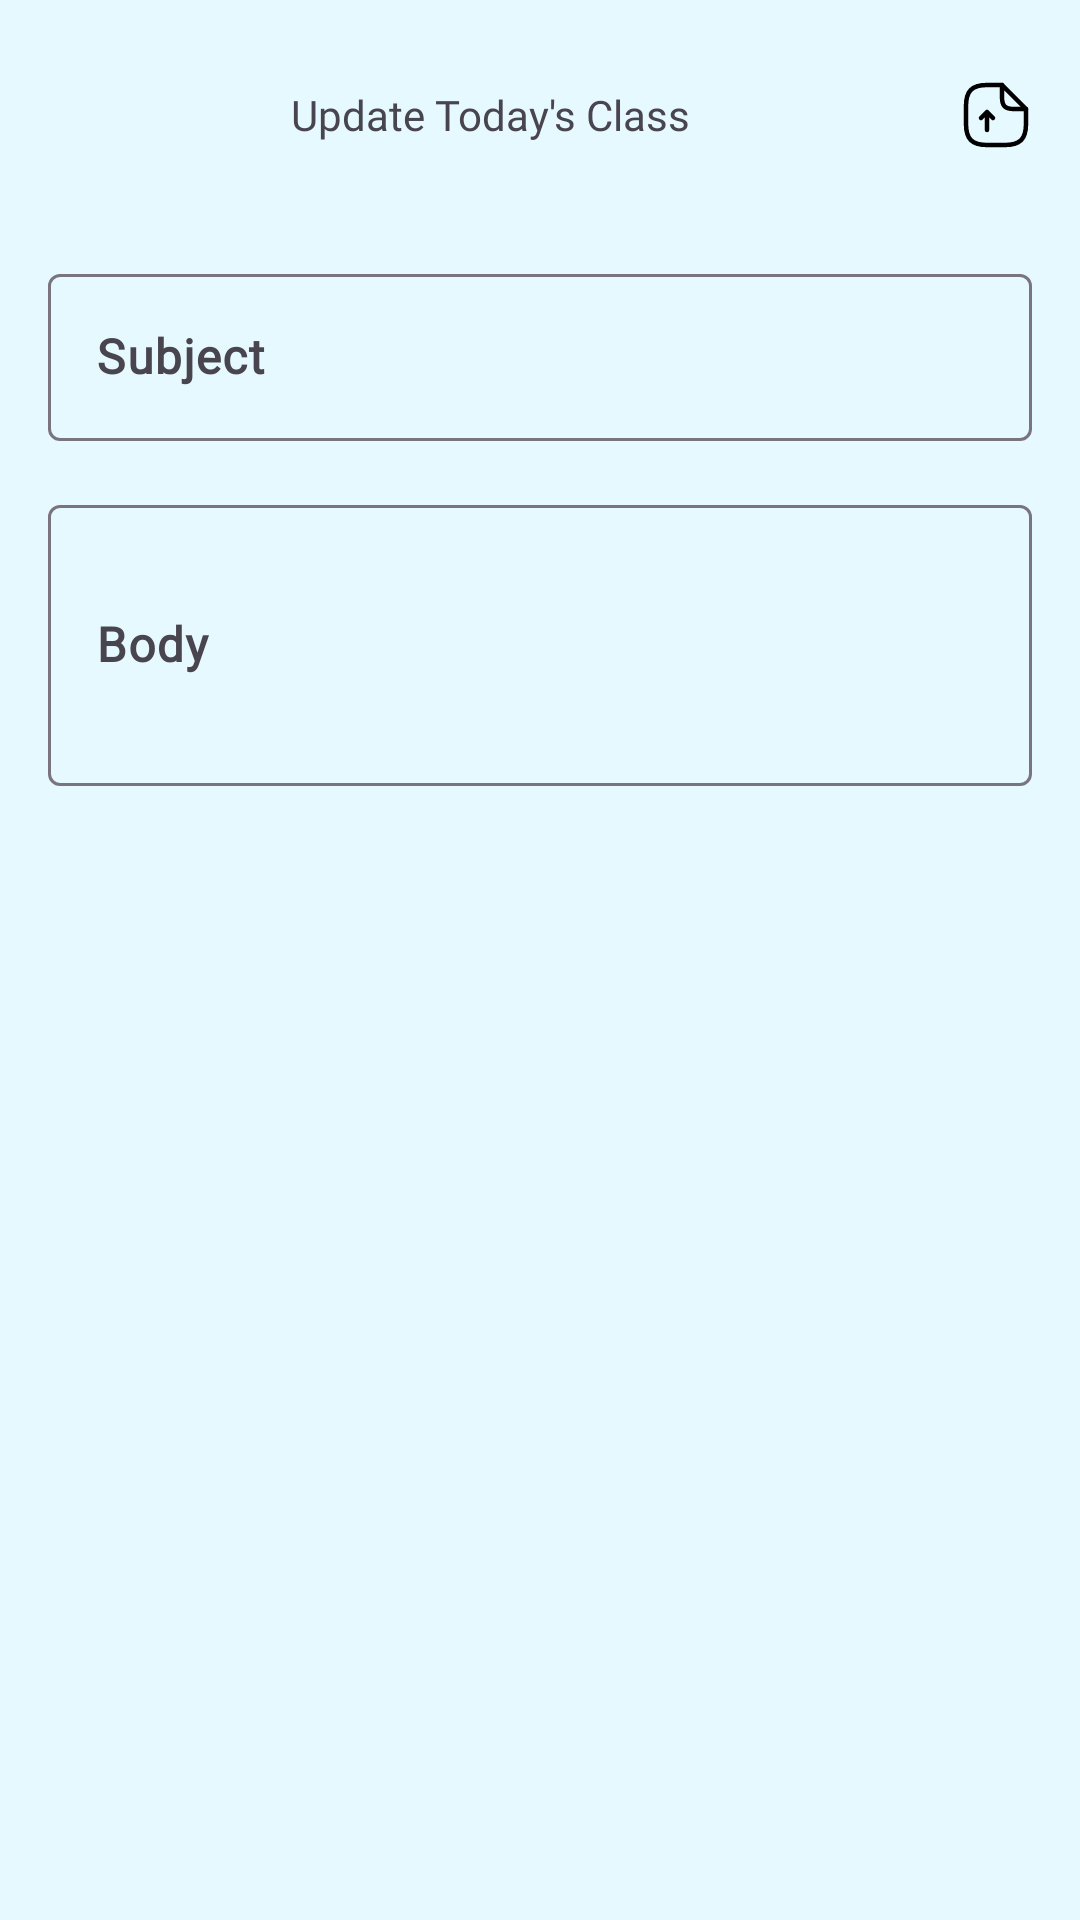

Where icons sit on this 1080 x 1920 app screen, as (x1, y1, x2, y2):
upload: (963, 82, 1029, 148)
